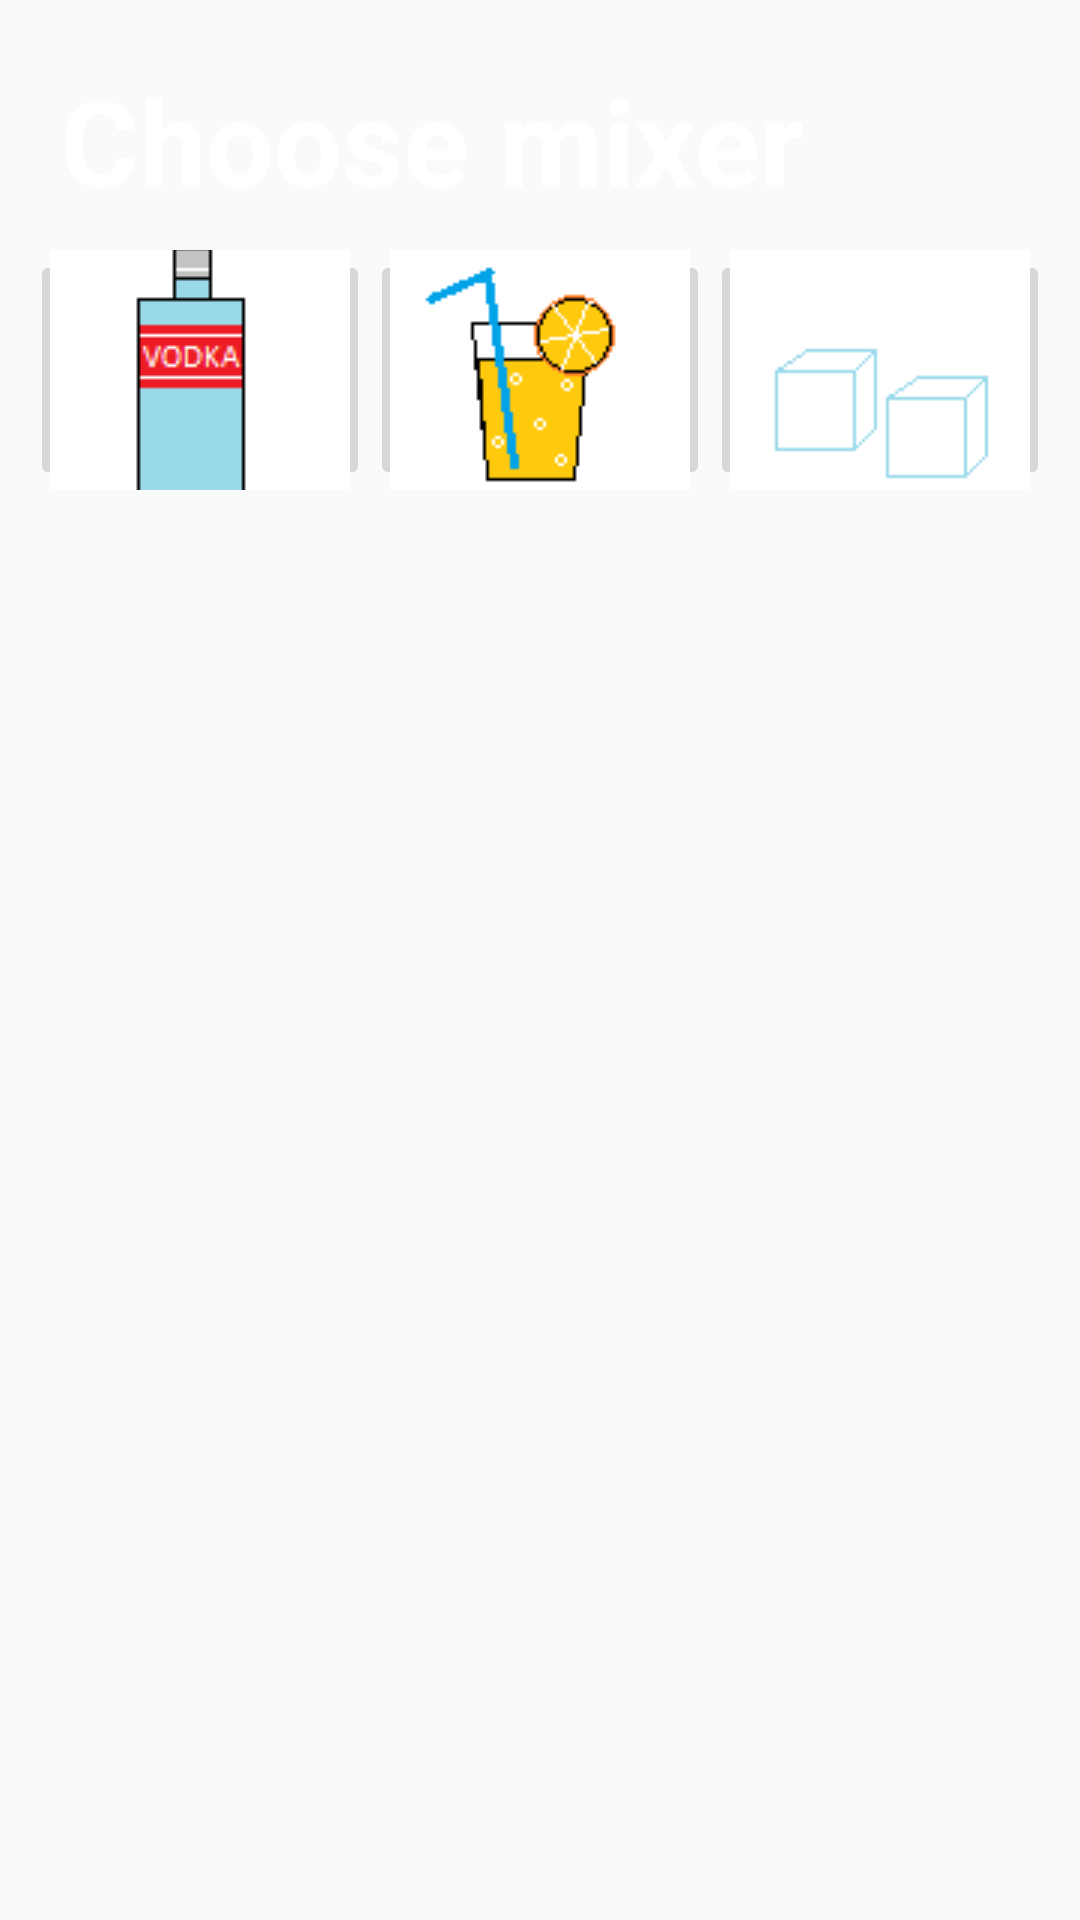

Where icons sit on this 1080x1920 app screen, as (x1, y1, x2, y2):
ice: (722, 268, 1038, 479)
juice: (382, 267, 698, 482)
